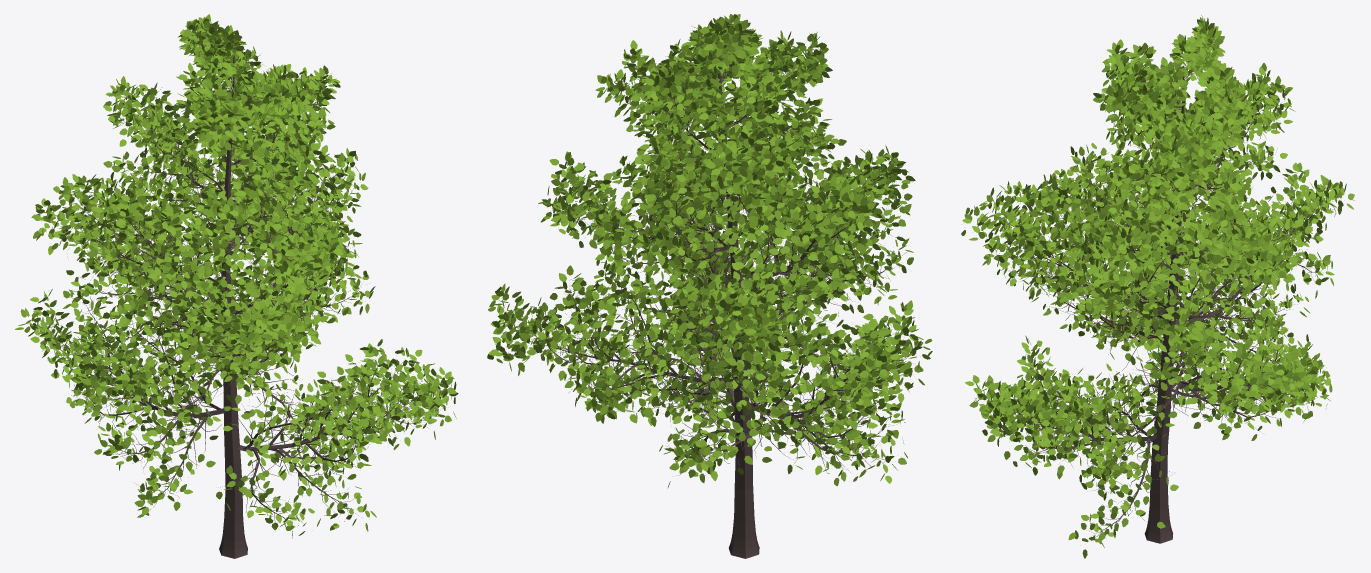
Rendered from sassafras.obj.
3 views of the same model, side by side, from view 1: azimuth 30°, elevation 25°; view 2: azimuth 150°, elevation 25°; view 3: azimuth 270°, elevation 25° (orthographic). The views are drawn at different scales.
Visible parts, largest first — view 1: leaves, leaves2, stems_3, stems_2, trunk, stems_1; view 2: leaves, leaves2, stems_3, stems_2, trunk, stems_1; view 3: leaves, leaves2, stems_3, stems_2, trunk, stems_1.
Boxes of the visible parts, x1,y1,x2,y2 form: leaves: [15, 14, 458, 538]; leaves2: [15, 14, 456, 537]; stems_3: [30, 61, 439, 526]; stems_2: [45, 49, 438, 518]; trunk: [219, 56, 247, 558]; stems_1: [65, 67, 411, 451]; leaves: [488, 14, 932, 487]; leaves2: [487, 14, 932, 486]; stems_3: [516, 42, 916, 475]; stems_2: [508, 50, 915, 459]; trunk: [718, 66, 759, 558]; stems_1: [540, 48, 875, 418]; leaves: [961, 16, 1354, 552]; leaves2: [962, 15, 1354, 558]; stems_3: [995, 63, 1336, 537]; stems_2: [989, 63, 1332, 535]; trunk: [1144, 67, 1184, 543]; stems_1: [1020, 75, 1303, 441].
Size of the model in its own units: 17.04 by 23.85 by 16.7.
